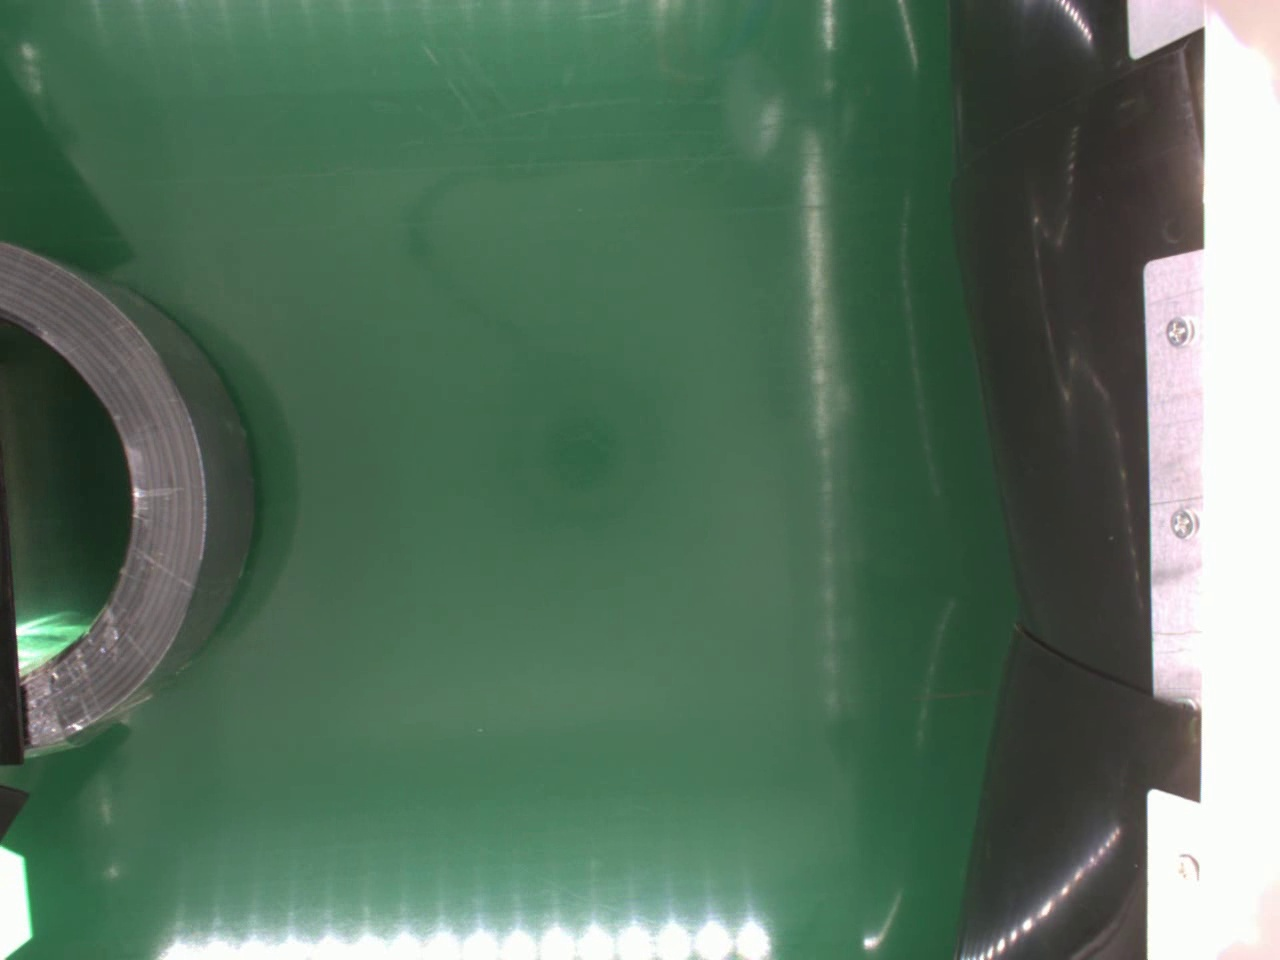black: (1, 237, 259, 771)
